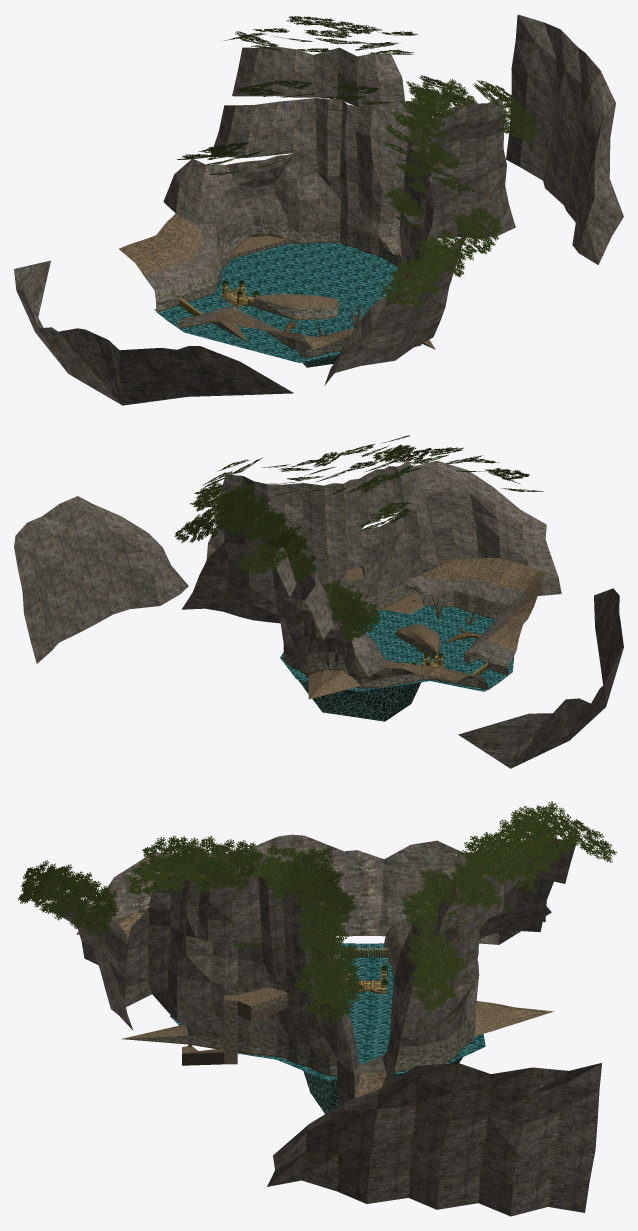
Rendered from spot08_00.dae.
3 renders of one model, top to bottom at view 1: azimuth 30°, elevation 25°; view 2: azimuth 150°, elevation 25°; view 3: azimuth 270°, elevation 25°, orthographic. The views are drawn at different scales.
Visible parts, largest first — view 1: node-02A3B303, node-00C376CD, node-01C607E7, node-01CBA437, node-0028C5F3; view 2: node-02A3B303, node-00C376CD, node-0028C5F3, node-01CBA437, node-01C607E7, node-0187C7FD; view 3: node-02A3B303, node-00C376CD, node-01CBA437, node-01C607E7, node-0028C5F3, node-03C14B22, node-0187C7FD.
Boxes of the visible parts, bbox=[...] form: node-02A3B303: bbox=[14, 14, 623, 405]; node-00C376CD: bbox=[177, 16, 541, 307]; node-01C607E7: bbox=[154, 242, 397, 362]; node-01CBA437: bbox=[154, 215, 433, 358]; node-0028C5F3: bbox=[119, 213, 435, 349]; node-02A3B303: bbox=[14, 459, 623, 768]; node-00C376CD: bbox=[174, 435, 543, 640]; node-0028C5F3: bbox=[308, 558, 553, 699]; node-01CBA437: bbox=[283, 582, 510, 689]; node-01C607E7: bbox=[280, 605, 514, 691]; node-0187C7FD: bbox=[298, 679, 421, 721]; node-02A3B303: bbox=[54, 834, 601, 1216]; node-00C376CD: bbox=[18, 801, 616, 1023]; node-01CBA437: bbox=[122, 924, 475, 1076]; node-01C607E7: bbox=[170, 943, 485, 1080]; node-0028C5F3: bbox=[114, 908, 554, 1098]; node-03C14B22: bbox=[182, 993, 477, 1065]; node-0187C7FD: bbox=[303, 1057, 462, 1113].
Size of the model in its own units: 12184 by 5608 by 9232.
Materials: 18 (18 with a texture image).
